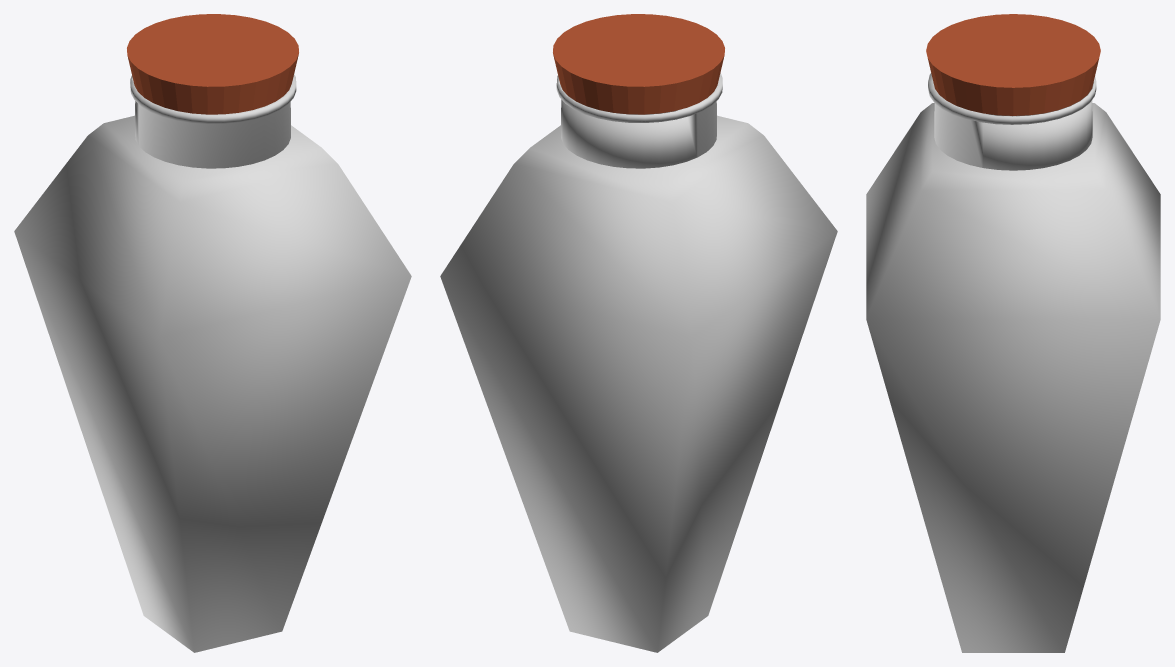
Rendered from potion2.fbx.
The picture shows the model from 3 angles, left to right: view 1: azimuth 30°, elevation 25°; view 2: azimuth 150°, elevation 25°; view 3: azimuth 270°, elevation 25°; orthographic projection.
Visible parts, largest first — view 1: Цилиндр, Цилиндр.001; view 2: Цилиндр, Цилиндр.001; view 3: Цилиндр, Цилиндр.001.
Boxes of the visible parts, x1,y1,x2,y2 form: Цилиндр: (14, 74, 411, 652); Цилиндр.001: (127, 14, 298, 114); Цилиндр: (440, 73, 837, 652); Цилиндр.001: (553, 14, 724, 114); Цилиндр: (866, 73, 1160, 652); Цилиндр.001: (926, 14, 1100, 115).
Bounding box in the file's own units: 574 × 1247 × 574.
